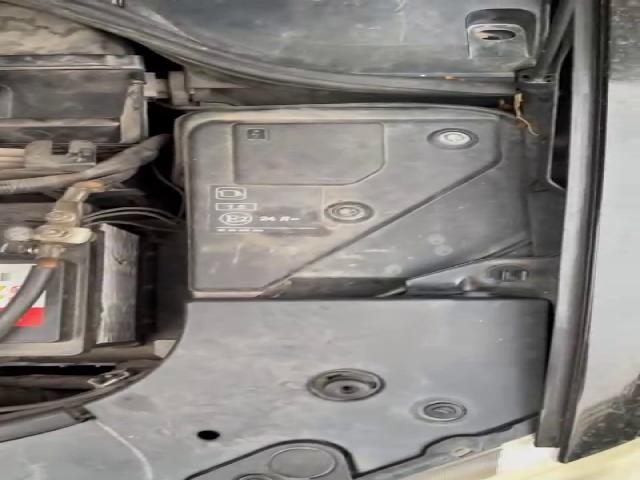accumulator: (0, 200, 138, 356)
fuse_box: (182, 118, 508, 292)
